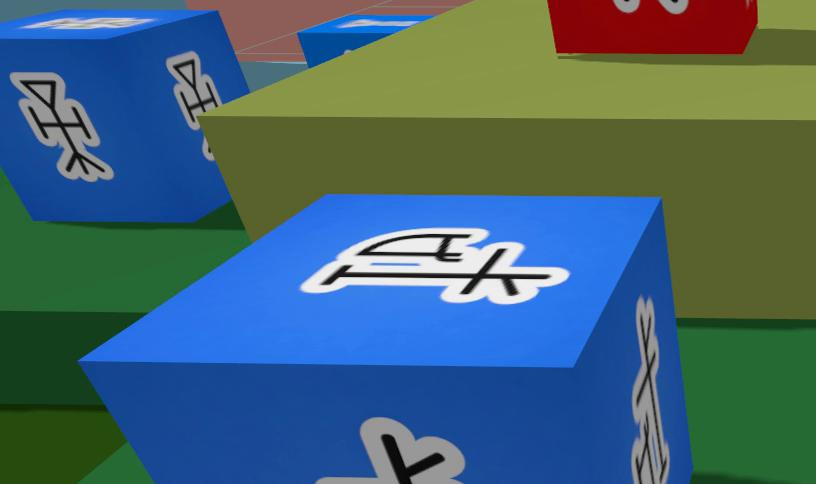KFS_FAKE: (550, 1, 760, 58), (613, 1, 689, 14)
KFS_REAL: (81, 186, 695, 484), (1, 10, 253, 221), (301, 227, 569, 304), (10, 72, 114, 182), (314, 417, 463, 484), (293, 16, 431, 69), (631, 297, 668, 484), (166, 52, 221, 131)
